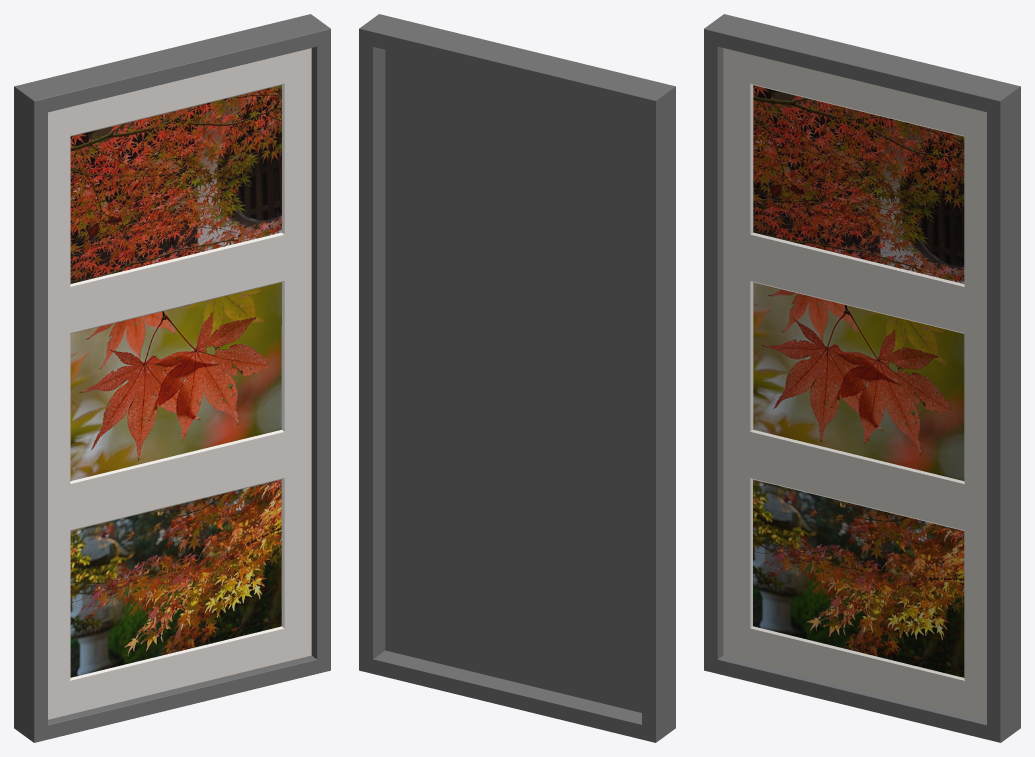
Rendered from sweethome3d-contributions-frame-momiji-photos-381.glb.
3 views of the same model, side by side, from view 1: azimuth 30°, elevation 25°; view 2: azimuth 150°, elevation 25°; view 3: azimuth 330°, elevation 25° (orthographic).
Visible parts, largest first — view 1: Inner_frame_Cube.003, Frame_Cube.001, Photo1_Plane.001, Photo2_Plane, Photo3_Plane.002; view 2: Frame_Cube.001; view 3: Inner_frame_Cube.003, Frame_Cube.001, Photo1_Plane.001, Photo2_Plane, Photo3_Plane.002.
Part boxes in pixels (x1=…): Inner_frame_Cube.003: x1=48, y1=48, x2=311, y2=719; Frame_Cube.001: x1=14, y1=14, x2=330, y2=742; Photo1_Plane.001: x1=70, y1=85, x2=281, y2=283; Photo2_Plane: x1=70, y1=282, x2=281, y2=480; Photo3_Plane.002: x1=70, y1=479, x2=281, y2=677; Frame_Cube.001: x1=359, y1=14, x2=675, y2=742; Inner_frame_Cube.003: x1=723, y1=48, x2=986, y2=719; Frame_Cube.001: x1=704, y1=14, x2=1020, y2=742; Photo1_Plane.001: x1=753, y1=85, x2=964, y2=283; Photo2_Plane: x1=753, y1=282, x2=964, y2=480; Photo3_Plane.002: x1=753, y1=479, x2=964, y2=677.
Size of the model in its own units: 25.4 by 52.5 by 3.
5 materials, 3 textured.
